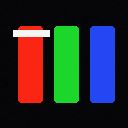3 line_h: (13, 30, 49, 36)
